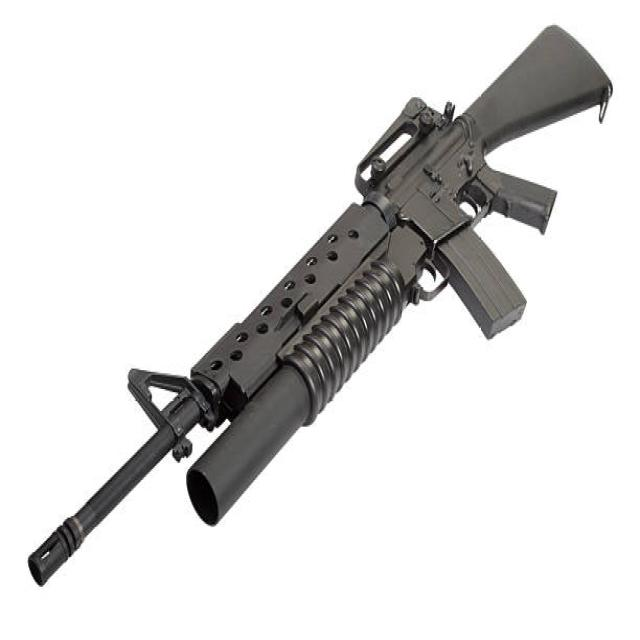rifle: (24, 23, 615, 598)
